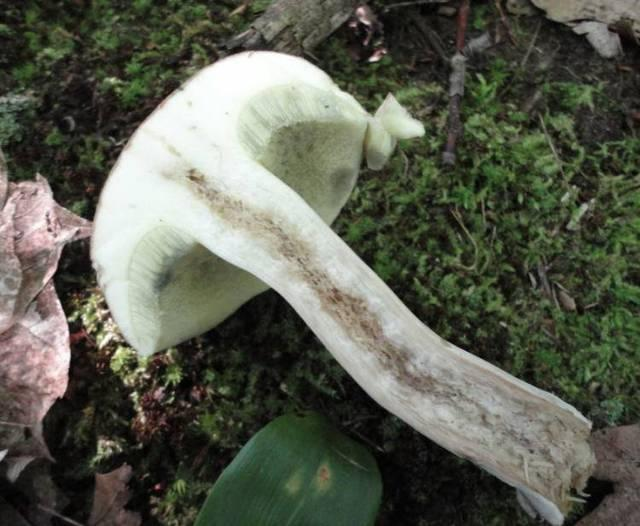edible_mushroom: (88, 48, 598, 525)
